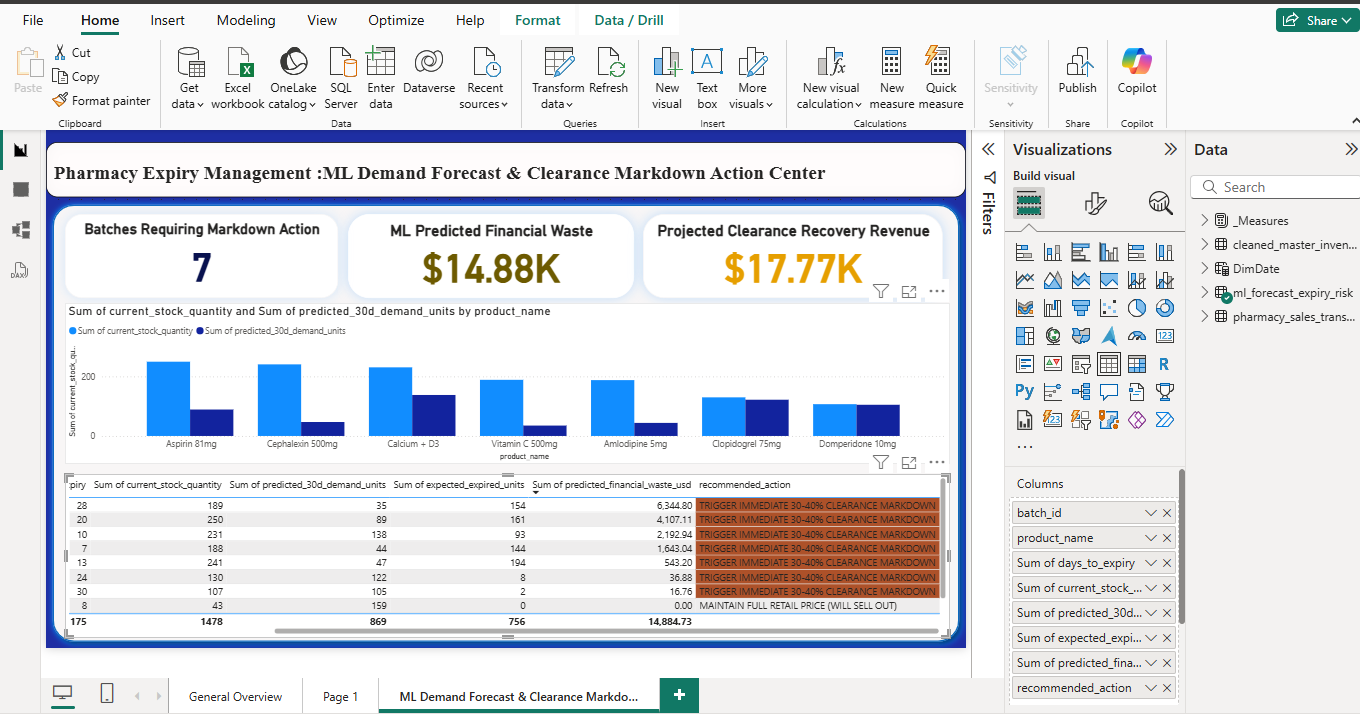

Layout of this report page (visuals, bound fields, positions):
{"tool":"powerbi","page":{"name":"ML Demand Forecast & Clearance Markdown Action Center","canvas":[1280,720],"ordinal":1},"visuals":[{"type":"shape","box":[0,94.3,1280,626.5],"z":0},{"type":"card","title":"ML Predicted Financial Waste","fields":{"Values":["_Measures.ML Predicted Financial Waste"]},"box":[420.7,116.5,397.9,116.9],"z":1000},{"type":"card","title":"Projected Clearance Recovery Revenue","fields":{"Values":["_Measures.Projected Clearance Recovery Revenue"]},"box":[831.2,116.5,417.4,116.9],"z":2000},{"type":"textbox","box":[0,16.8,1280,77.5],"z":3000},{"type":"card","title":"Batches Requiring Markdown Action","fields":{"Values":["_Measures.Batches Requiring Markdown Action"]},"box":[27,116.5,379.8,116.9],"z":4000},{"type":"clusteredColumnChart","fields":{"Y":["Sum(ml_forecast_expiry_risk.current_stock_quantity)","Sum(ml_forecast_expiry_risk.predicted_30d_demand_units)"],"Category":["ml_forecast_expiry_risk.product_name"]},"box":[26.4,240.7,1231.3,224],"z":5000},{"type":"tableEx","fields":{"Values":["ml_forecast_expiry_risk.batch_id","ml_forecast_expiry_risk.product_name","Sum(ml_forecast_expiry_risk.days_to_expiry)","Sum(ml_forecast_expiry_risk.current_stock_quantity)","Sum(ml_forecast_expiry_risk.predicted_30d_demand_units)","Sum(ml_forecast_expiry_risk.expected_expired_units)","Sum(ml_forecast_expiry_risk.predicted_financial_waste_usd)","ml_forecast_expiry_risk.recommended_action"]},"box":[26.4,478.6,1231.3,228.2],"z":6000}]}

Visuals, with their boxes on the page's 1280x720 design canvas (x1, y1, x2, y2). These are canvas units, not pixel positions in the 1360x714 screenshot, which may show the page scaled, cropped or inside an application window:
shape: bbox=[0, 94, 1280, 721]
"ML Predicted Financial Waste" card: bbox=[421, 116, 819, 233]
"Projected Clearance Recovery Revenue" card: bbox=[831, 116, 1249, 233]
textbox: bbox=[0, 17, 1280, 94]
"Batches Requiring Markdown Action" card: bbox=[27, 116, 407, 233]
clusteredColumnChart - Sum(ml_forecast_expiry_risk.current_stock_quantity) x Sum(ml_forecast_expiry_risk.predicted_30d_demand_units): bbox=[26, 241, 1258, 465]
tableEx - ml_forecast_expiry_risk.batch_id x ml_forecast_expiry_risk.product_name: bbox=[26, 479, 1258, 707]
